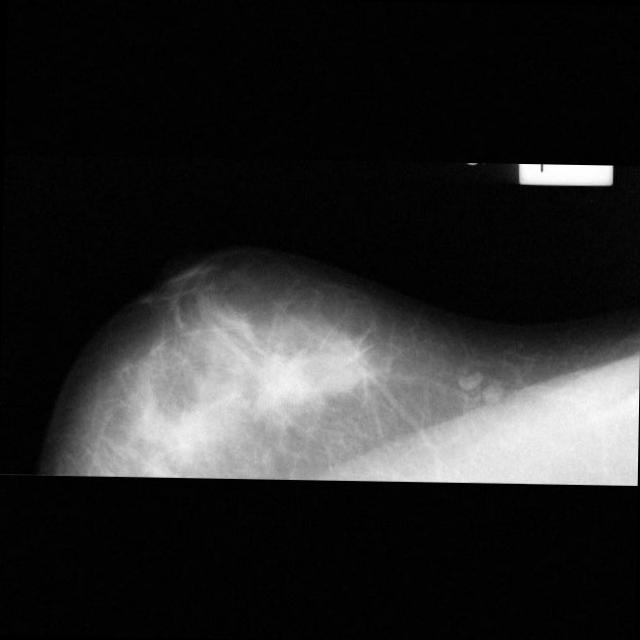ASYM: (262, 356, 310, 404)
